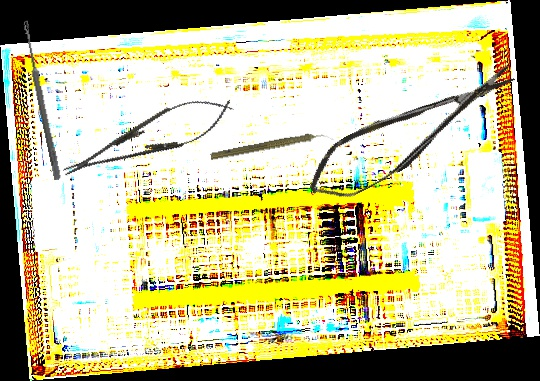Handpiece: (209, 127, 335, 165)
Micro Scissor: (297, 54, 528, 212)
Needle Holder: (54, 84, 240, 192)
Surgical Spoon: (20, 19, 63, 181)
